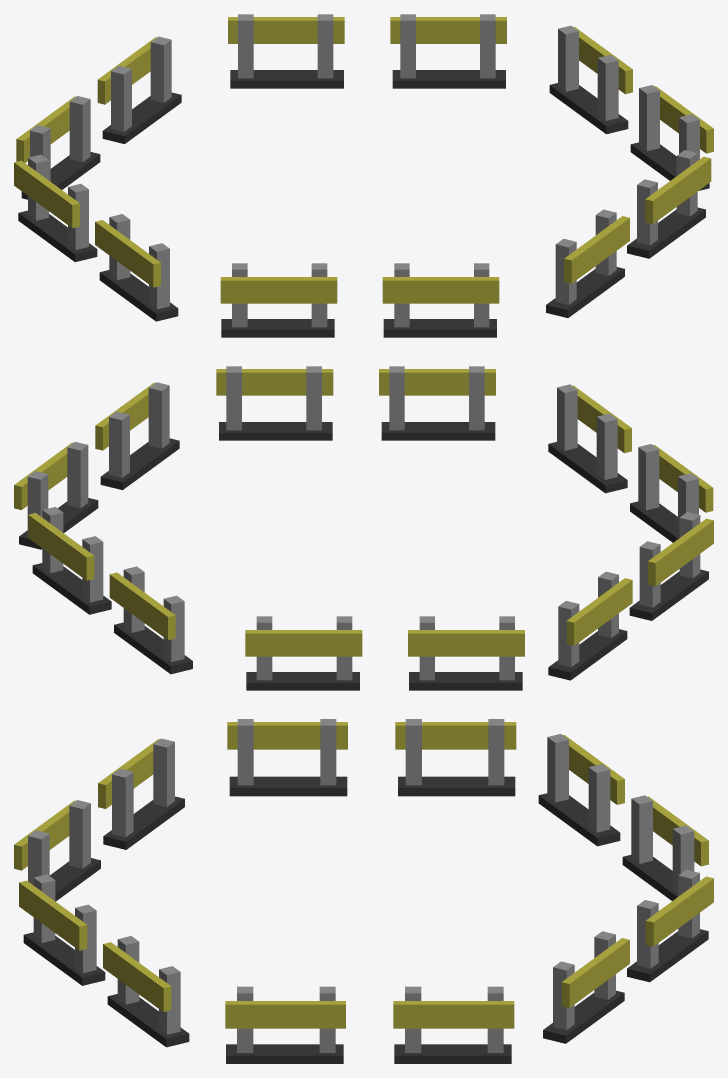
3 views of the same model, one above another, from view 1: azimuth 30°, elevation 25°; view 2: azimuth 150°, elevation 25°; view 3: azimuth 270°, elevation 25° (orthographic). The views are drawn at different scales.
Parts seen in each view (by area): view 1: Cube.055, Cube.071, Cube.047, Cube.035, Cube.039, Cube.063; view 2: Cube.063, Cube.047, Cube.071, Cube.035, Cube.055, Cube.039; view 3: Cube.035, Cube.039, Cube.047, Cube.071, Cube.063, Cube.055.
Boxes of the visible parts, x1,y1,x2,y2 form: Cube.055: (220, 263, 499, 337); Cube.071: (228, 14, 506, 88); Cube.047: (546, 150, 711, 317); Cube.035: (14, 154, 178, 321); Cube.039: (549, 25, 713, 190); Cube.063: (16, 36, 181, 199); Cube.063: (245, 616, 524, 690); Cube.047: (216, 366, 495, 440); Cube.071: (28, 507, 192, 674); Cube.035: (548, 512, 713, 680); Cube.055: (548, 384, 713, 542); Cube.039: (14, 382, 179, 549); Cube.035: (227, 719, 516, 796); Cube.039: (225, 986, 514, 1063); Cube.047: (19, 874, 189, 1047); Cube.071: (543, 869, 713, 1043); Cube.063: (538, 734, 708, 900); Cube.055: (14, 738, 184, 901).
Size of the model in its own units: 17.51 by 1.97 by 18.31.
